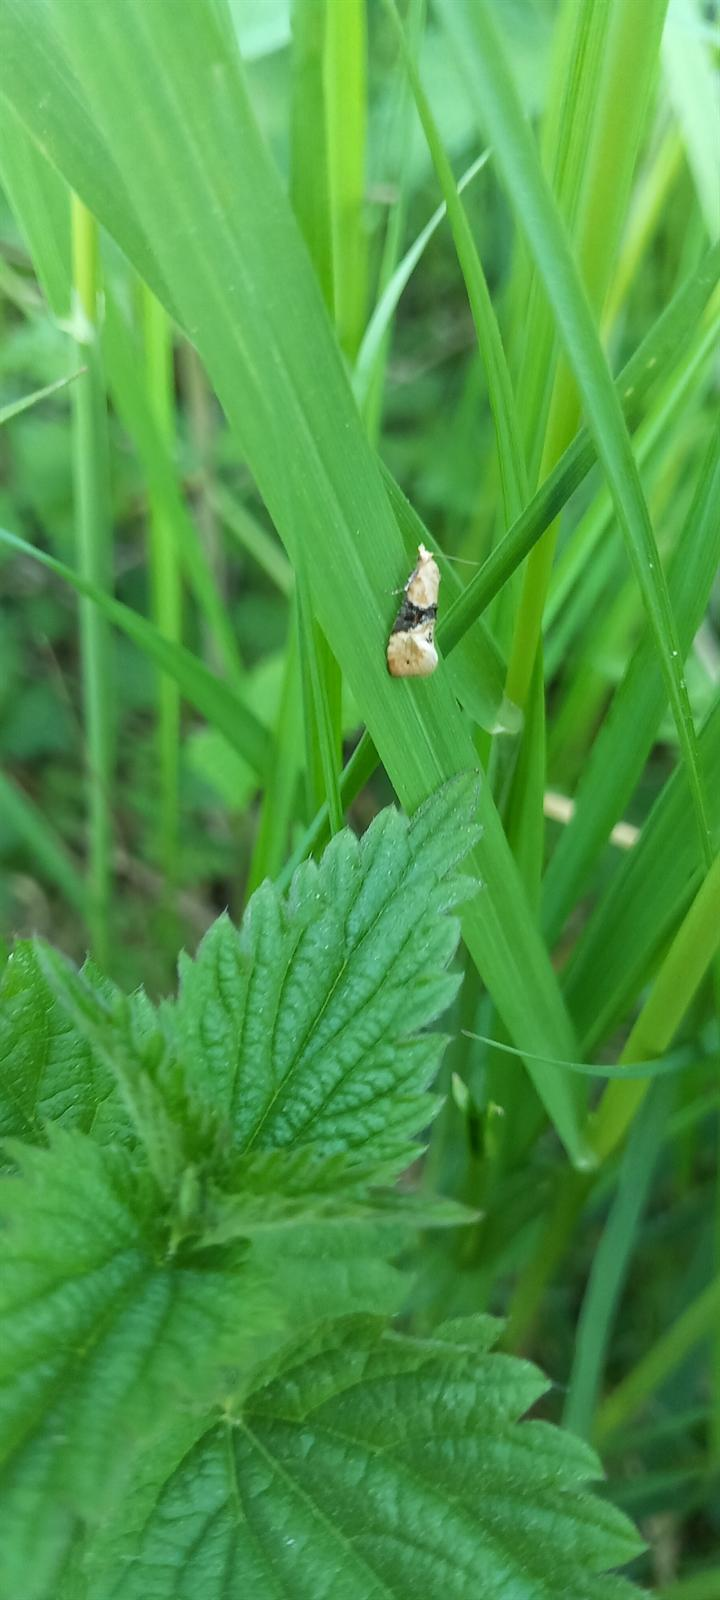Eupoecilia Ambiguella: (382, 540, 445, 681)
